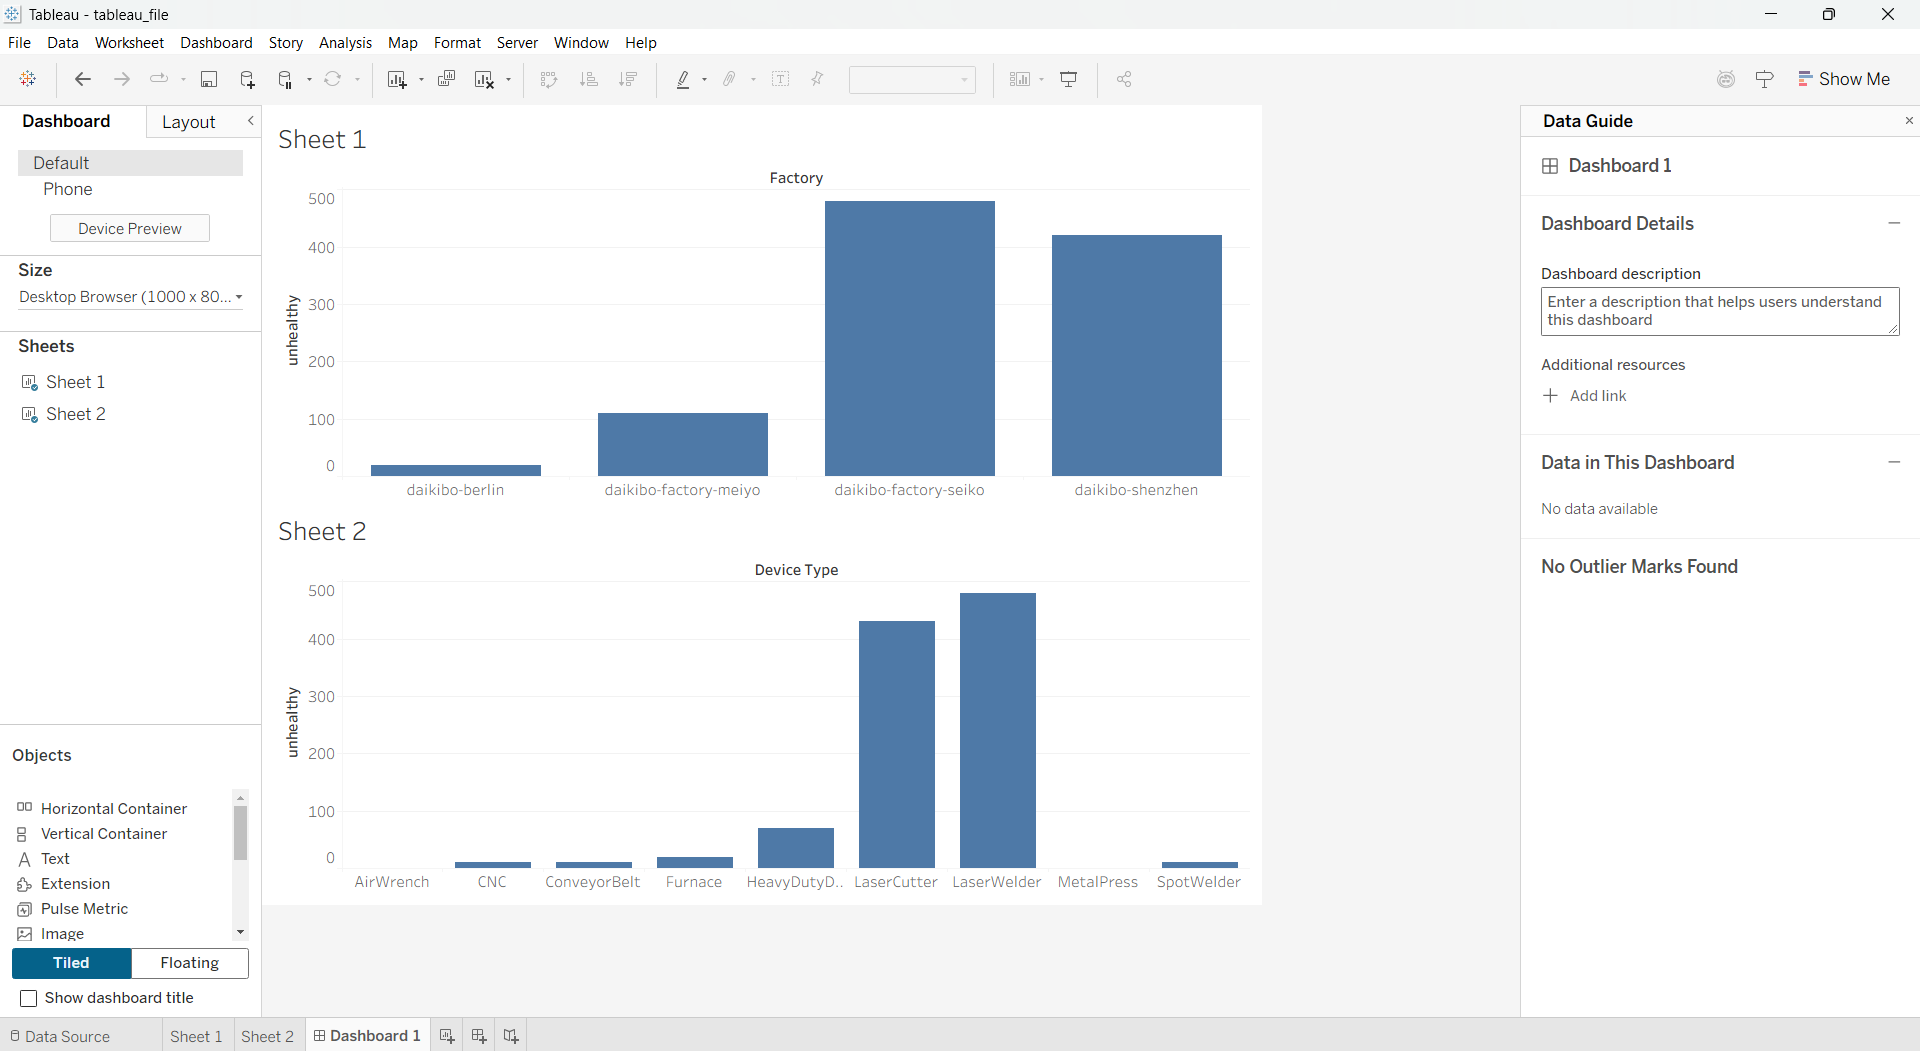

The page's visual inventory and layout, read from the dashboard file:
{"tool":"tableau","page":{"name":"Dashboard 1","canvas":[1000,800],"ordinal":0},"visuals":[{"type":"worksheet","title":"Sheet 1","mark":"Automatic","rows":["Calculation_1175980557303809"],"cols":["factory"],"box":[8,8,984,392]},{"type":"worksheet","title":"Sheet 2","mark":"Automatic","rows":["Calculation_1175980557303809"],"cols":["deviceType"],"box":[8,400,984,392]}]}

Visuals, with their boxes on the page's 1000x800 design canvas (x1, y1, x2, y2). These are canvas units, not pixel positions in the 1920x1051 screenshot, which may show the page scaled, cropped or inside an application window:
"Sheet 1" worksheet: left=8, top=8, right=992, bottom=400
"Sheet 2" worksheet: left=8, top=400, right=992, bottom=792
